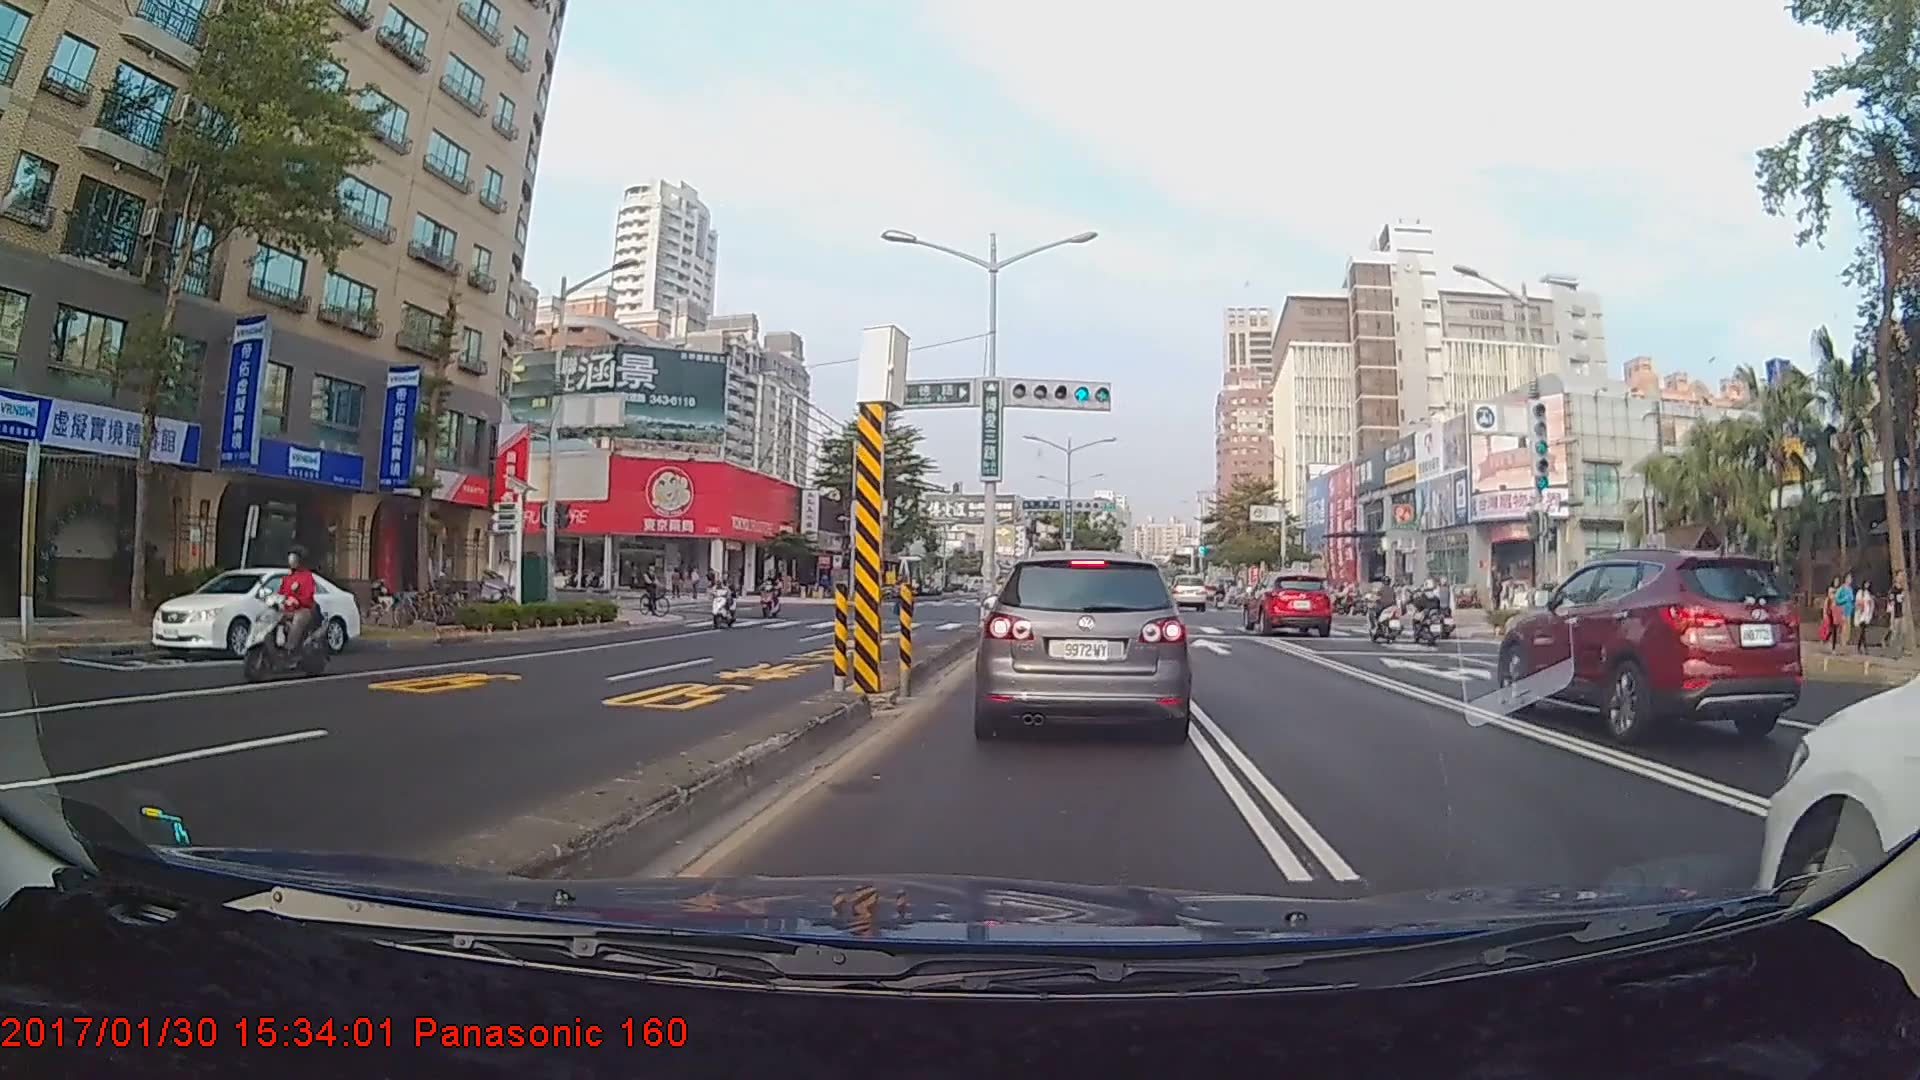pedestrian: (1886, 567, 1914, 653), (1830, 574, 1855, 661), (1823, 576, 1848, 657), (1853, 579, 1877, 650)
rider: (234, 546, 334, 687), (1357, 577, 1411, 649), (1404, 582, 1453, 647), (635, 561, 676, 624), (709, 570, 746, 634), (762, 568, 789, 622)
vehicle: (1497, 550, 1810, 743), (981, 547, 1189, 740), (150, 563, 358, 658), (1244, 570, 1335, 636), (1168, 573, 1207, 612)
